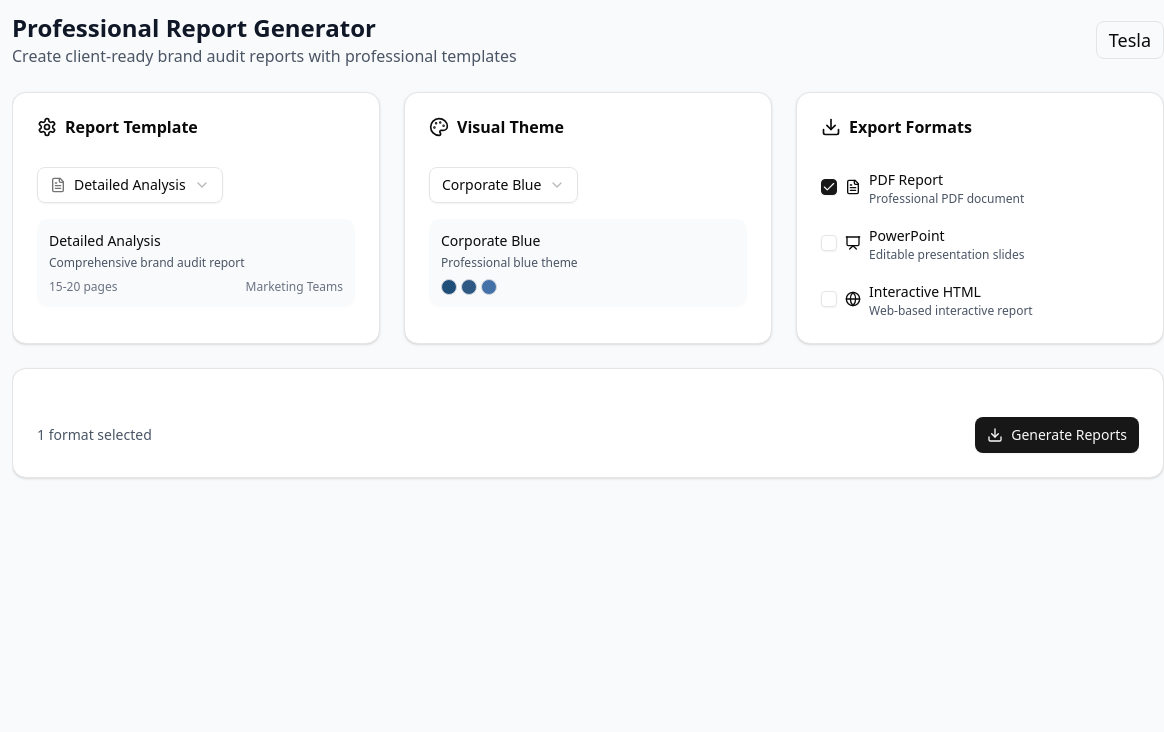
ReportGenerator › handles API errors gracefully
Generate reports
Click the button "Generate Reports" at (1057, 435), box [975, 417, 1139, 453]
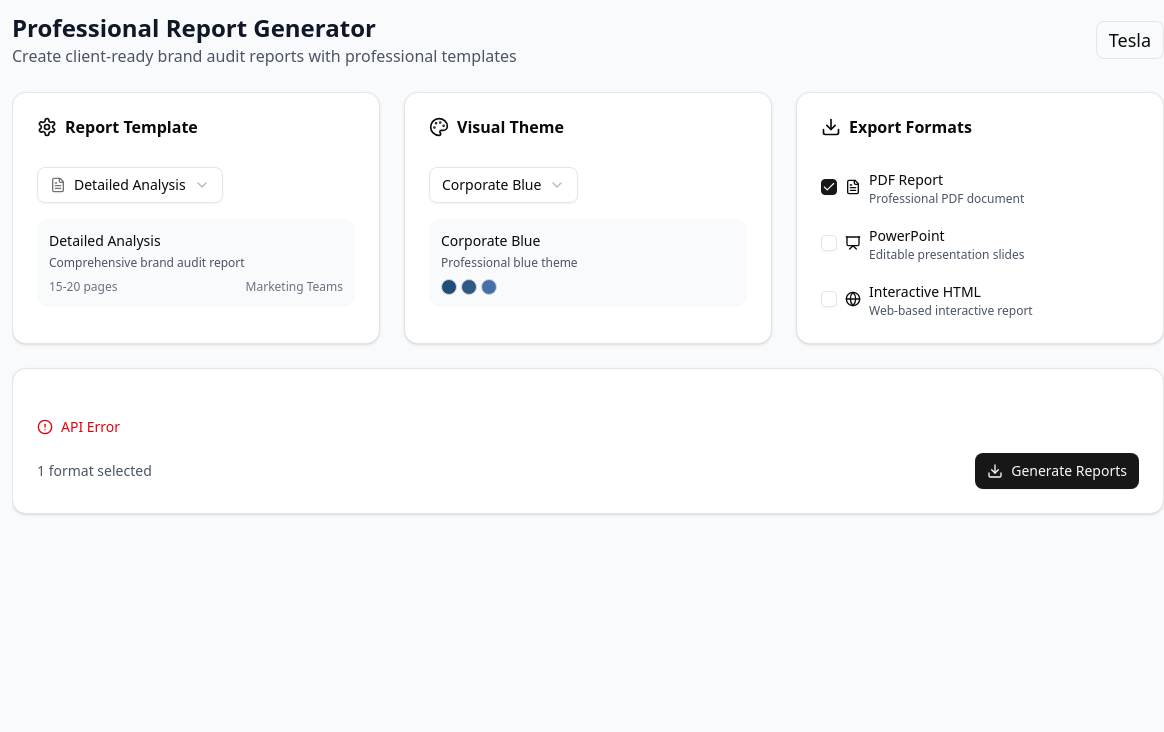
Now the text "API Error" is shown, box [61, 417, 120, 437]
